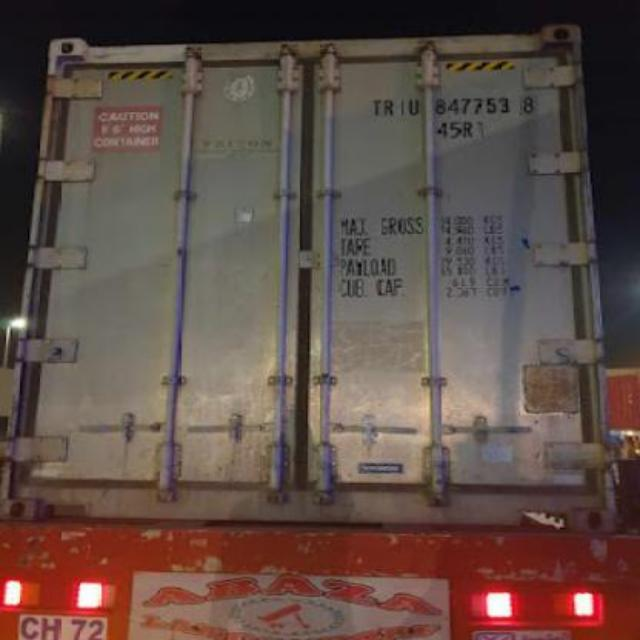3: (496, 94, 514, 116)
4: (446, 95, 459, 116)
5: (488, 95, 500, 116)
7: (472, 95, 486, 118), (460, 95, 470, 115)
8: (520, 97, 536, 115), (432, 95, 446, 115)
I: (394, 98, 408, 118)
R: (382, 99, 398, 117)
T: (372, 98, 384, 118)
U: (406, 98, 422, 118)
